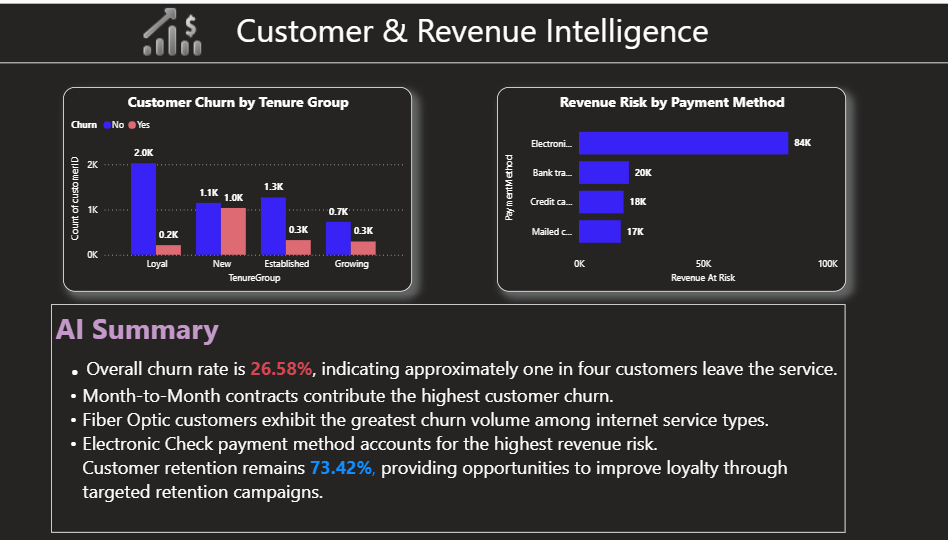

Layout of this report page (visuals, bound fields, positions):
{"tool":"powerbi","page":{"name":"Page 2","canvas":[1280,720],"ordinal":1},"visuals":[{"type":"clusteredBarChart","title":"Revenue Risk by Payment Method","fields":{"Category":["cleaned_churn_base.PaymentMethod"],"Y":["cleaned_churn_base.Revenue At Risk"]},"box":[672,112,464,272],"z":0},{"type":"clusteredColumnChart","title":"Customer Churn by Tenure Group","fields":{"Category":["cleaned_churn_base.TenureGroup"],"Y":["CountNonNull(cleaned_churn_base.customerID)"],"Series":["cleaned_churn_base.Churn"]},"box":[96,112,464,272],"z":1000},{"type":"textbox","box":[0,0,1280,80],"z":2000},{"type":"textbox","box":[80,400,1056,304],"z":3000},{"type":"image","box":[192,0,96,80],"z":4000}]}

Visuals, with their boxes in screenshot pixels (x1, y1, x2, y2), scaled from the page's 1280x720 canvas onto the 948x540 screenshot:
"Revenue Risk by Payment Method" clusteredBarChart: x1=498, y1=84, x2=841, y2=288
"Customer Churn by Tenure Group" clusteredColumnChart: x1=71, y1=84, x2=415, y2=288
textbox: x1=0, y1=0, x2=947, y2=60
textbox: x1=59, y1=300, x2=841, y2=528
image: x1=142, y1=0, x2=213, y2=60
